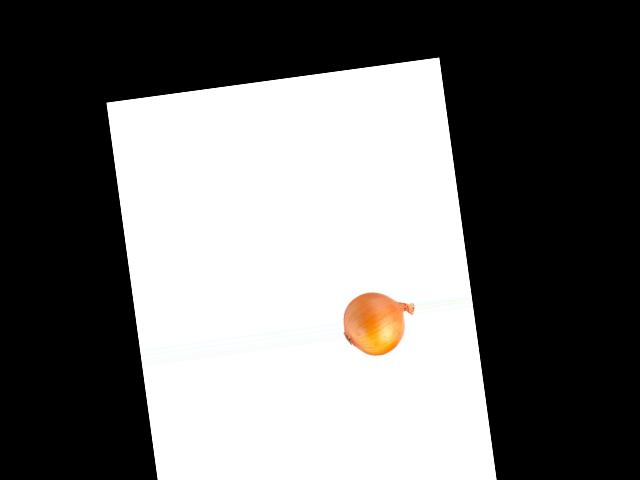onion: (340, 286, 411, 360)
